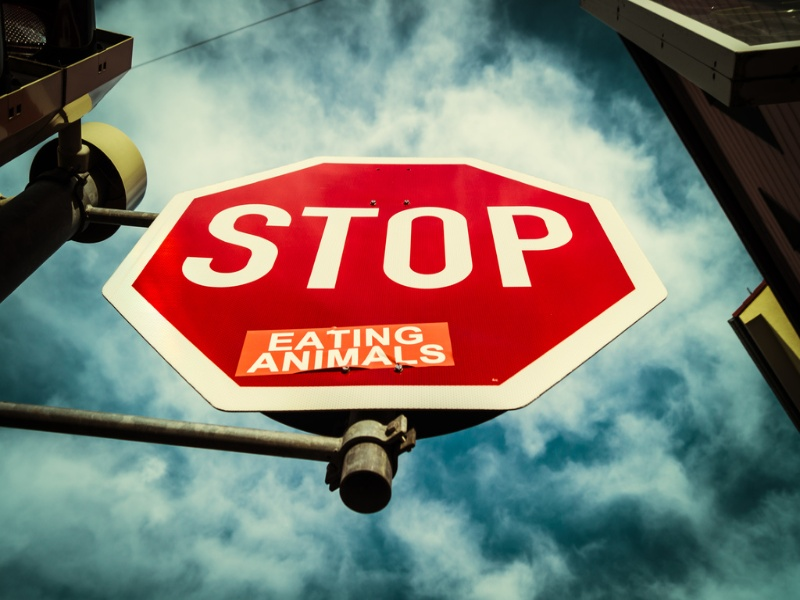stop: (167, 176, 620, 408)
